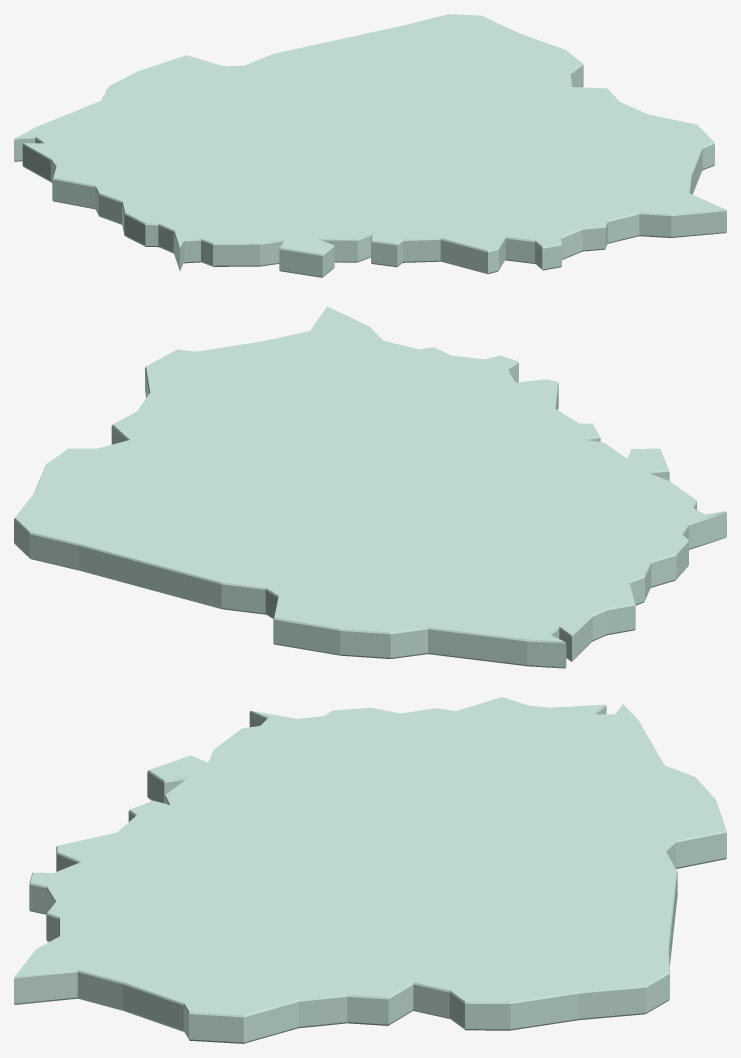
File: POL.glb
3 renders of one model, top to bottom at view 1: azimuth 30°, elevation 25°; view 2: azimuth 150°, elevation 25°; view 3: azimuth 270°, elevation 25°, orthographic. The views are drawn at different scales.
Size of the model in its own units: 1.62 by 0.068 by 1.53.
